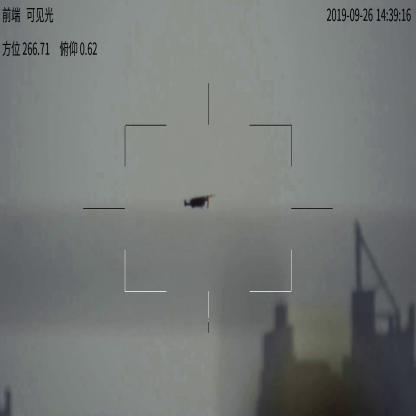uav: (182, 192, 220, 210)
